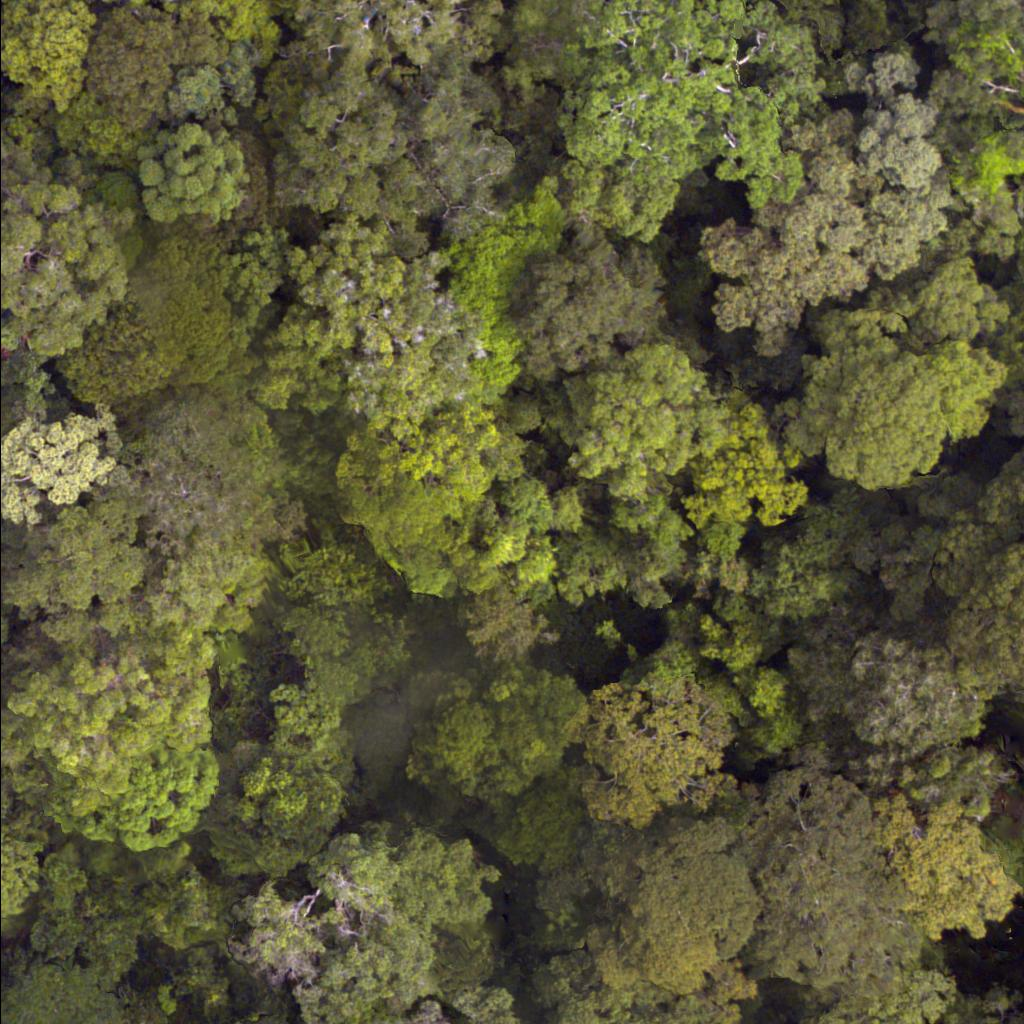crown: (748, 769, 926, 989), (576, 821, 763, 999), (874, 787, 1023, 947), (203, 758, 346, 868), (345, 975, 528, 1023), (0, 959, 123, 1023), (801, 975, 954, 1023), (937, 987, 1023, 1023), (234, 1017, 333, 1023)
